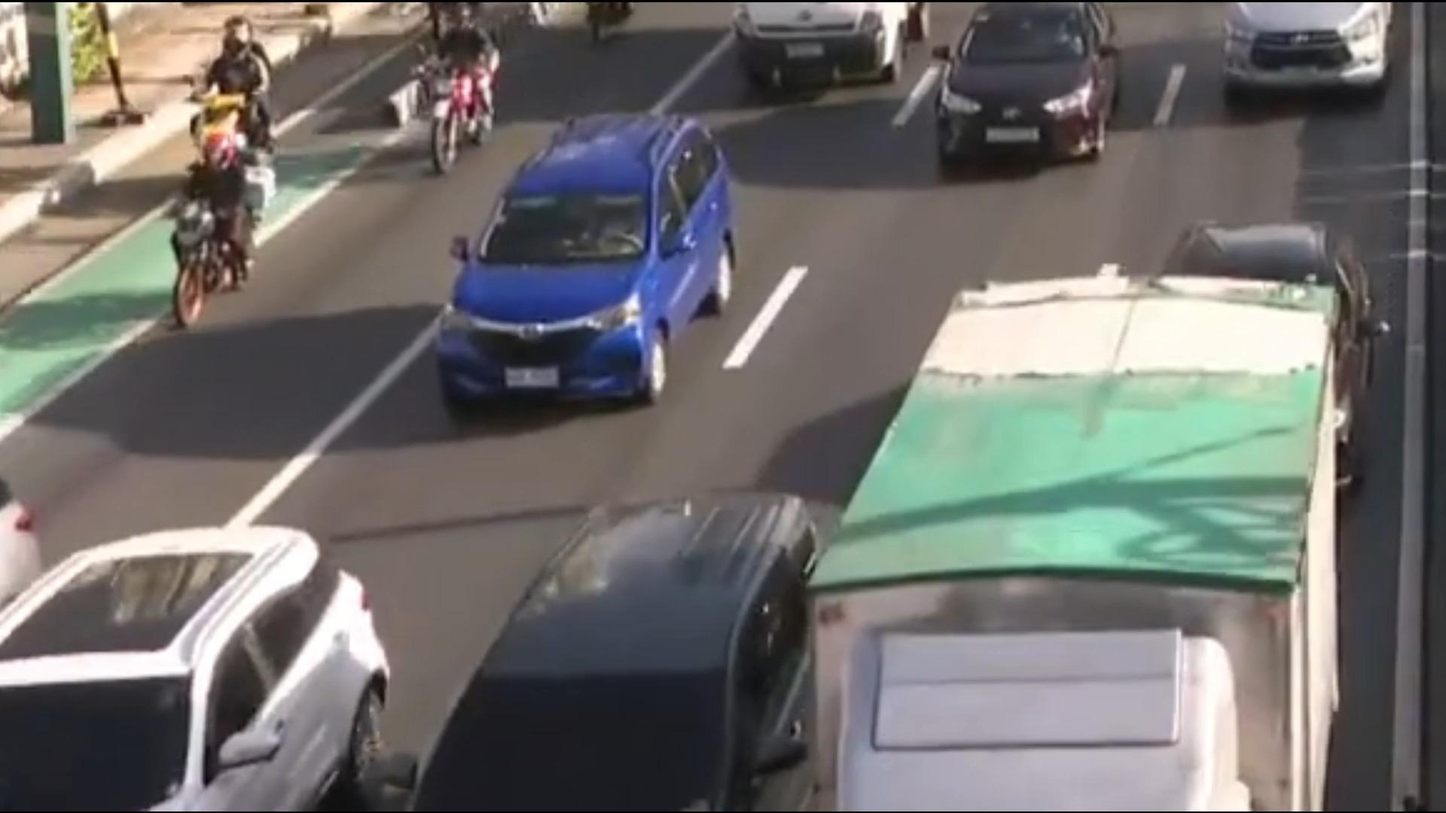Motorcycle: (152, 121, 273, 358), (411, 0, 529, 198), (191, 17, 315, 200)
SUV: (345, 51, 769, 445), (375, 475, 850, 813), (0, 495, 425, 813)
Truck: (703, 256, 1405, 813), (921, 0, 1152, 183)
